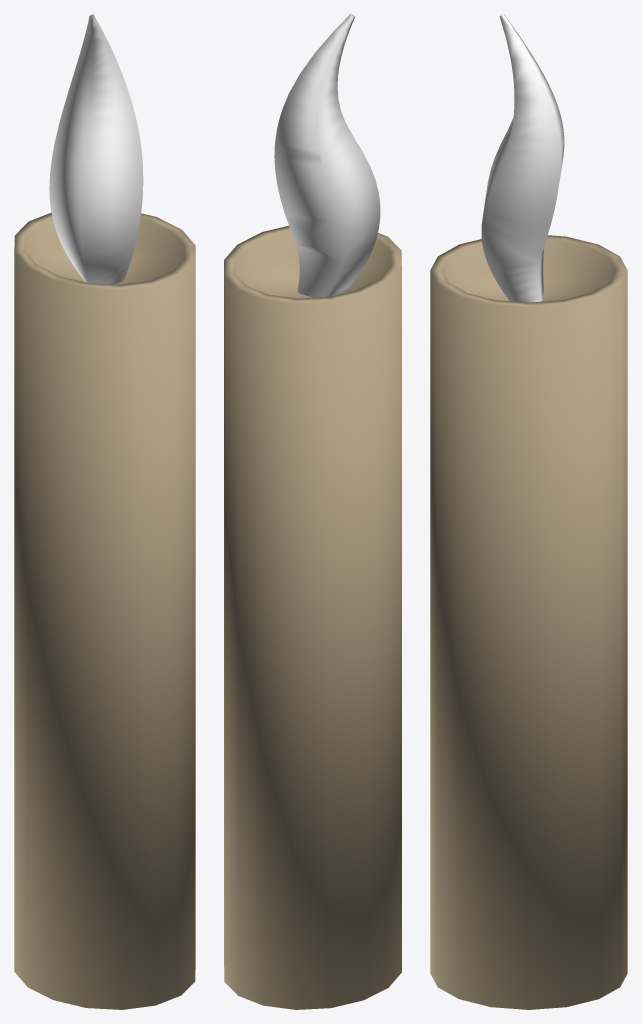
Rendered from Candle3.fbx.
3 views of the same model, side by side, from view 1: azimuth 30°, elevation 25°; view 2: azimuth 150°, elevation 25°; view 3: azimuth 270°, elevation 25° (orthographic). The views are drawn at different scales.
Parts seen in each view (by area): view 1: candle M; view 2: candle M; view 3: candle M.
Boxes of the visible parts, x1=… form: candle M: x1=14, y1=14, x2=195, y2=1009; candle M: x1=224, y1=14, x2=401, y2=1009; candle M: x1=430, y1=14, x2=627, y2=1009.
Bounding box in the file's own units: 7.77 × 46.75 × 8.84.
